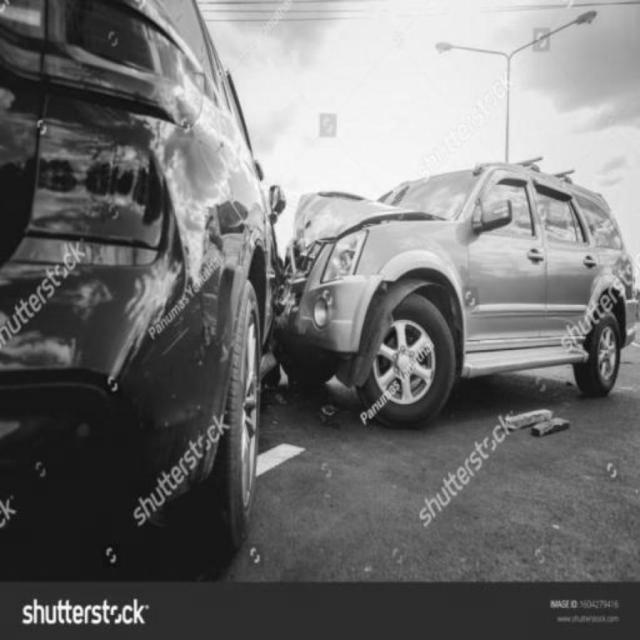accident: (2, 83, 622, 480)
